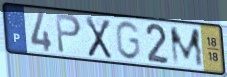2: (144, 22, 171, 67)
4: (29, 9, 54, 55)
G: (114, 20, 142, 62)
M: (168, 26, 206, 68)
P: (54, 12, 83, 56)
X: (84, 14, 113, 61)
